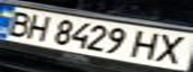2: (87, 22, 109, 54)
4: (69, 20, 90, 51)
8: (48, 16, 75, 47)
9: (106, 25, 133, 56)
B: (0, 8, 36, 37)
H: (127, 28, 166, 61), (18, 11, 57, 42)
X: (151, 32, 193, 65)
